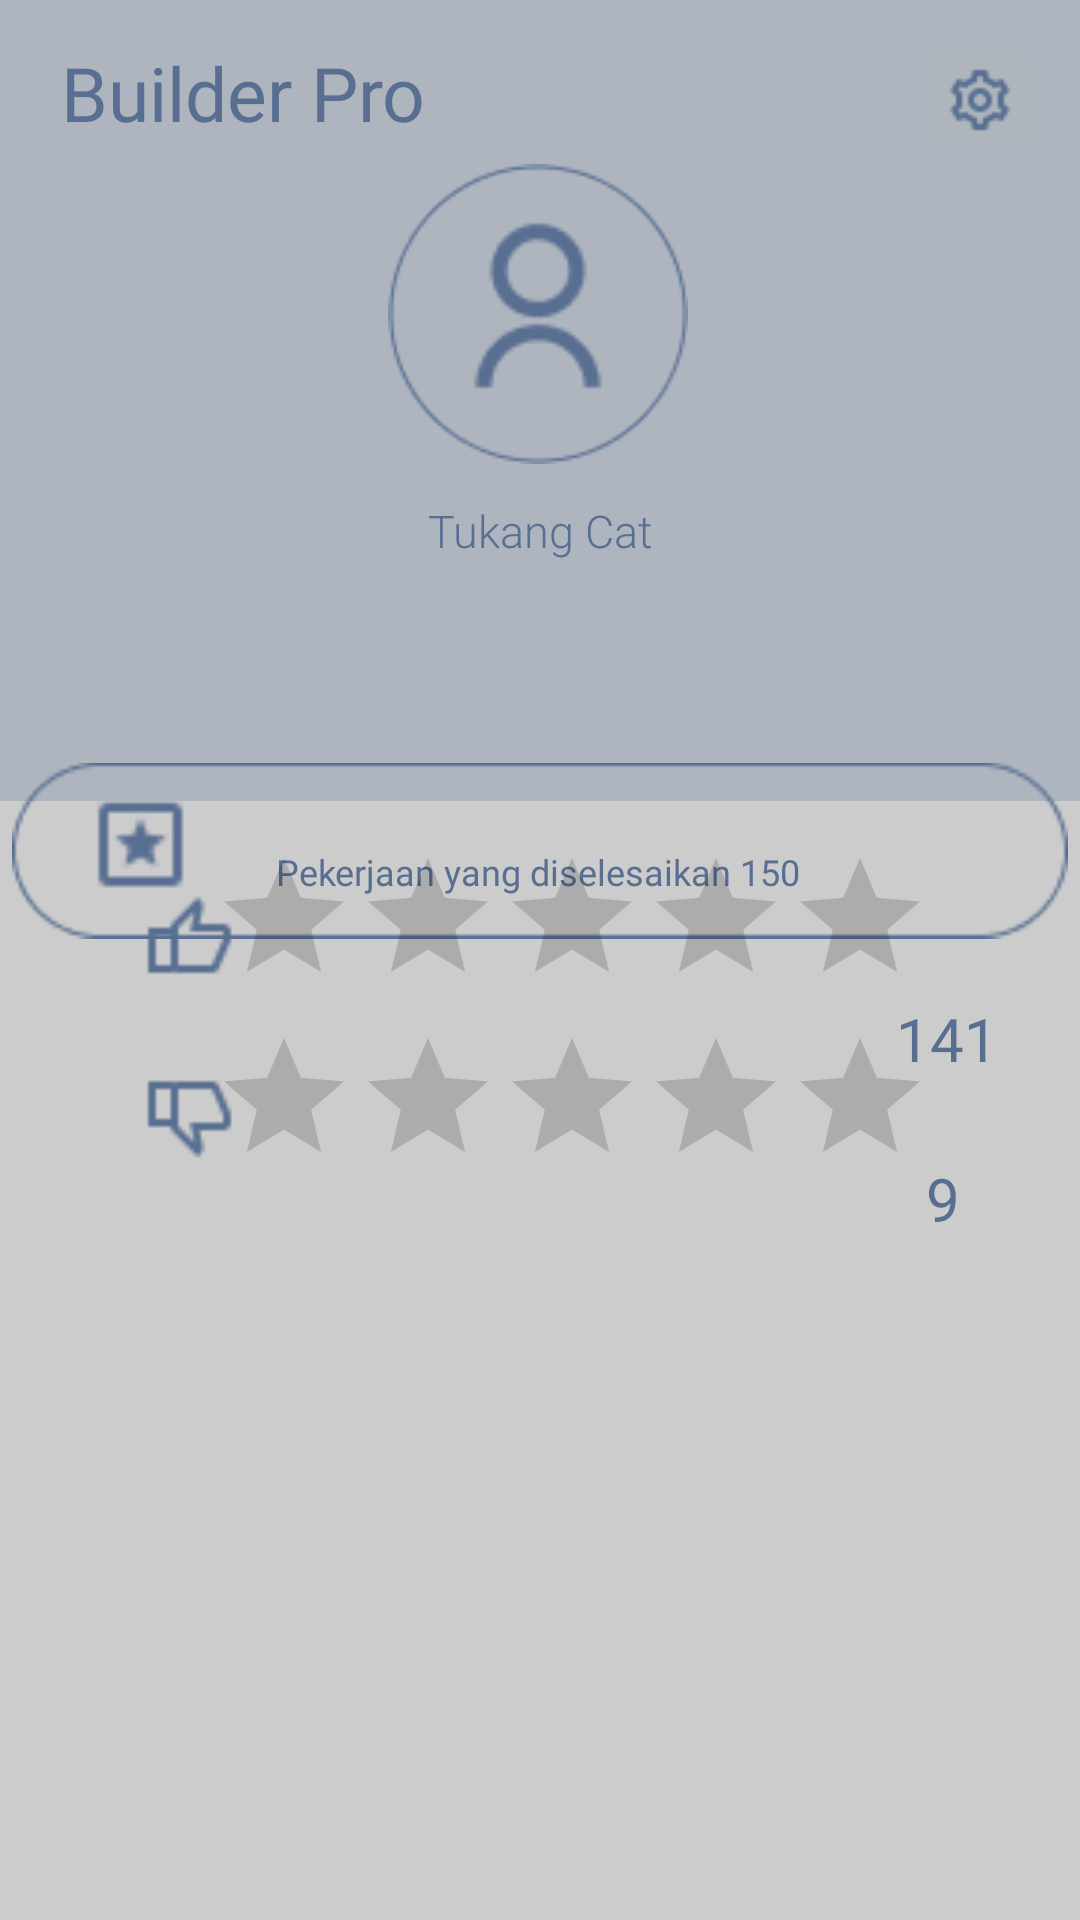

Locate icon controls on the screen. Image size 1080x1920, boxes as (x1, y1, x2, y2).
setting: (950, 69, 1010, 131)
unlike: (147, 1080, 232, 1157)
